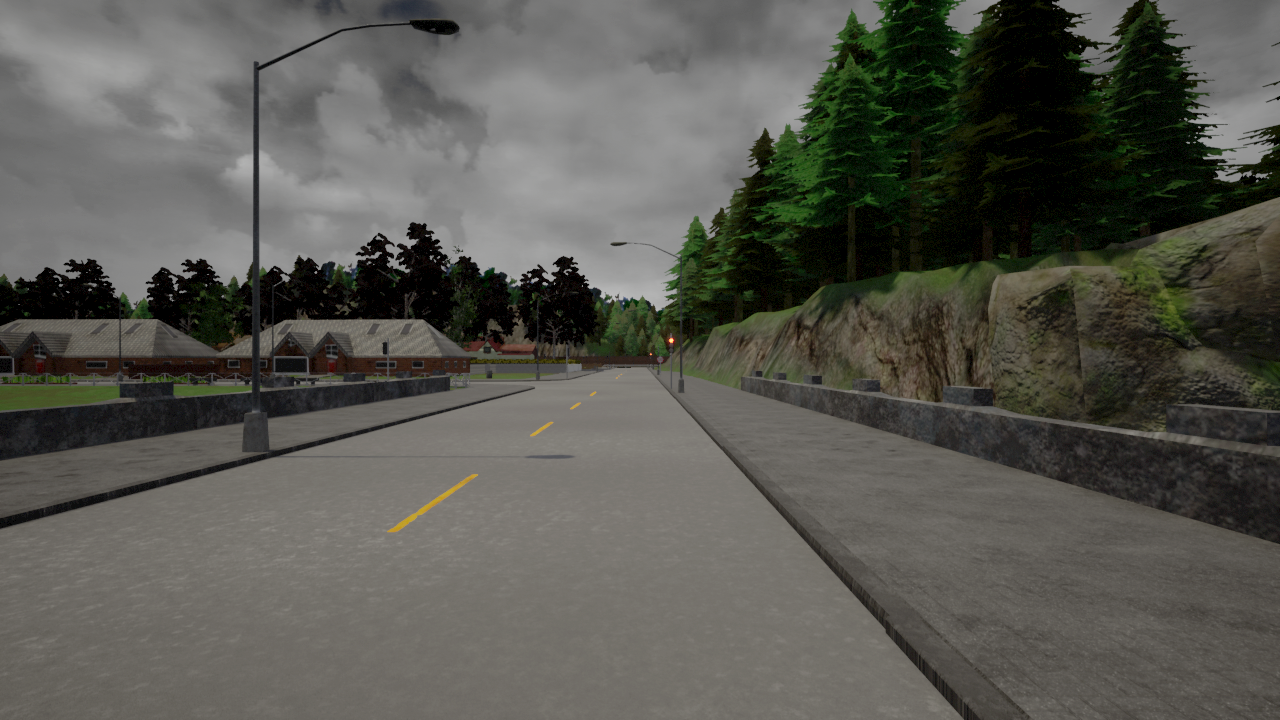red: (667, 336, 674, 354)
